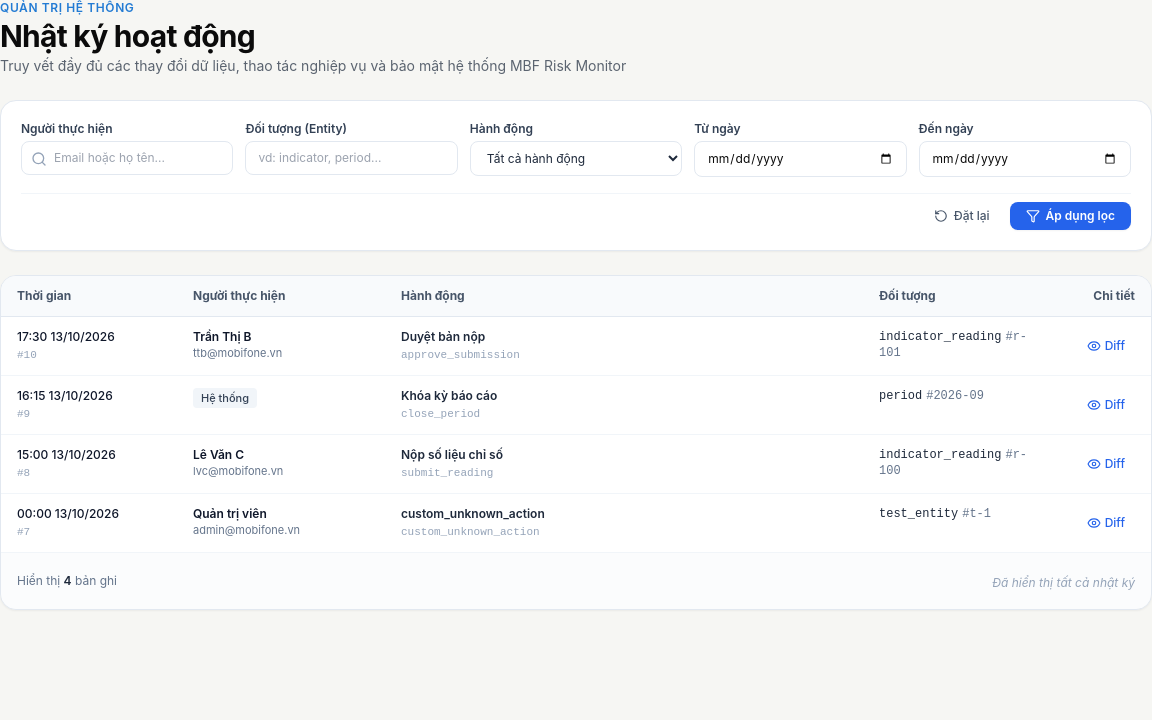
Test: AuditView component › so sánh trước/sau tô đúng trường: trường đổi có đánh dấu thay đổi, trường không đổi không tô
What coordinates should you click on to do the following:
click the row with test id "audit-row-10"
I would click on:
 (66, 336)
Its box is [1, 316, 1151, 376].
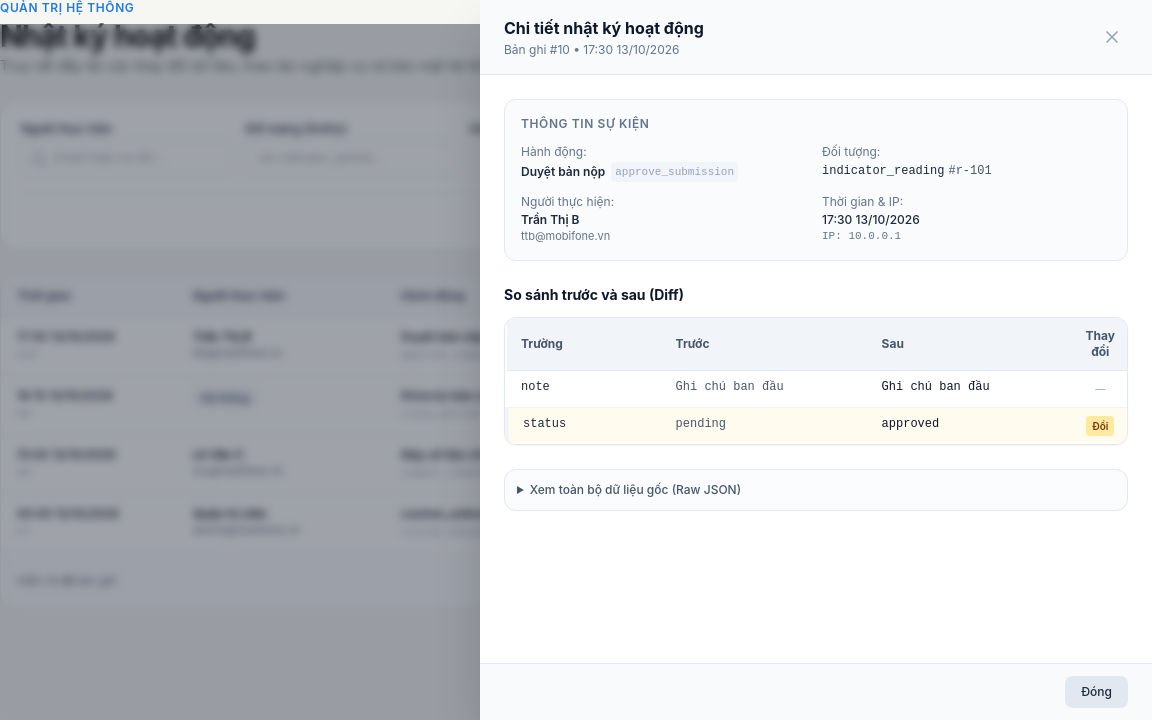
Expected: the dialog is shown
Expected: the heading "Chi tiết nhật ký hoạt động" is shown, [504, 16, 704, 40]
Expected: the table with test id "diff-table" is shown, [505, 318, 1127, 444]
Note: Close button
What coordinates should you click on to do the following:
click the button with test id "drawer-close-btn"
I would click on:
 (1112, 37)
Its box is [1096, 21, 1128, 53].
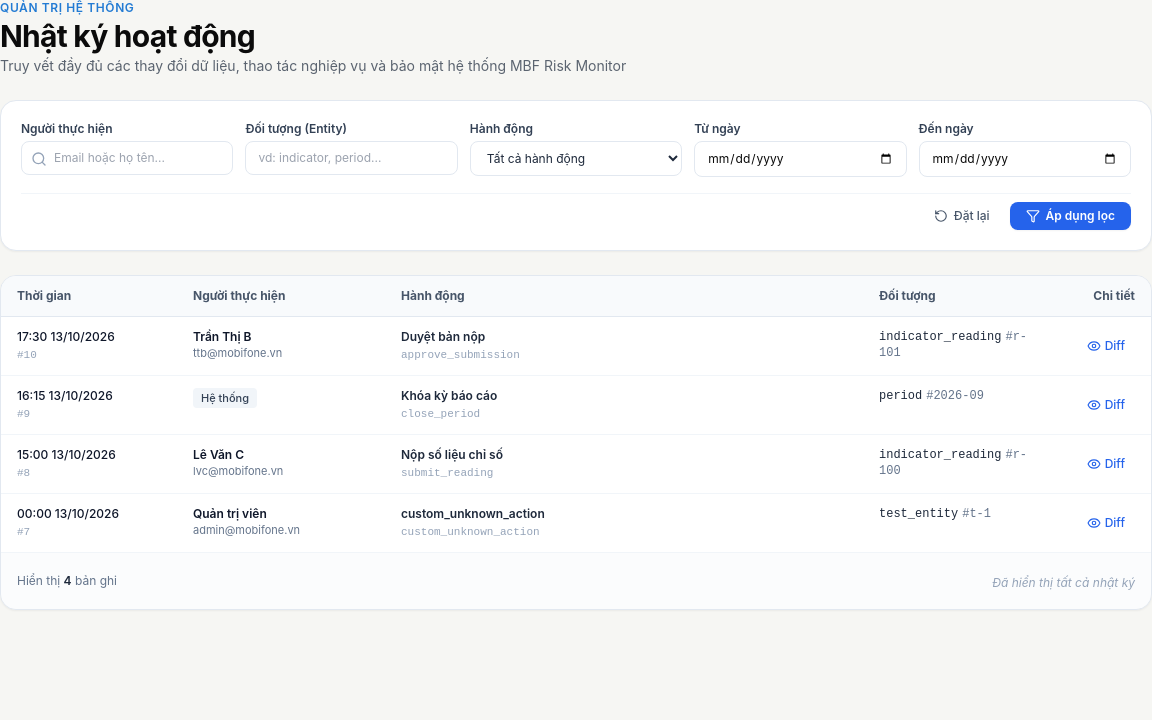
Expected: the dialog is gone
